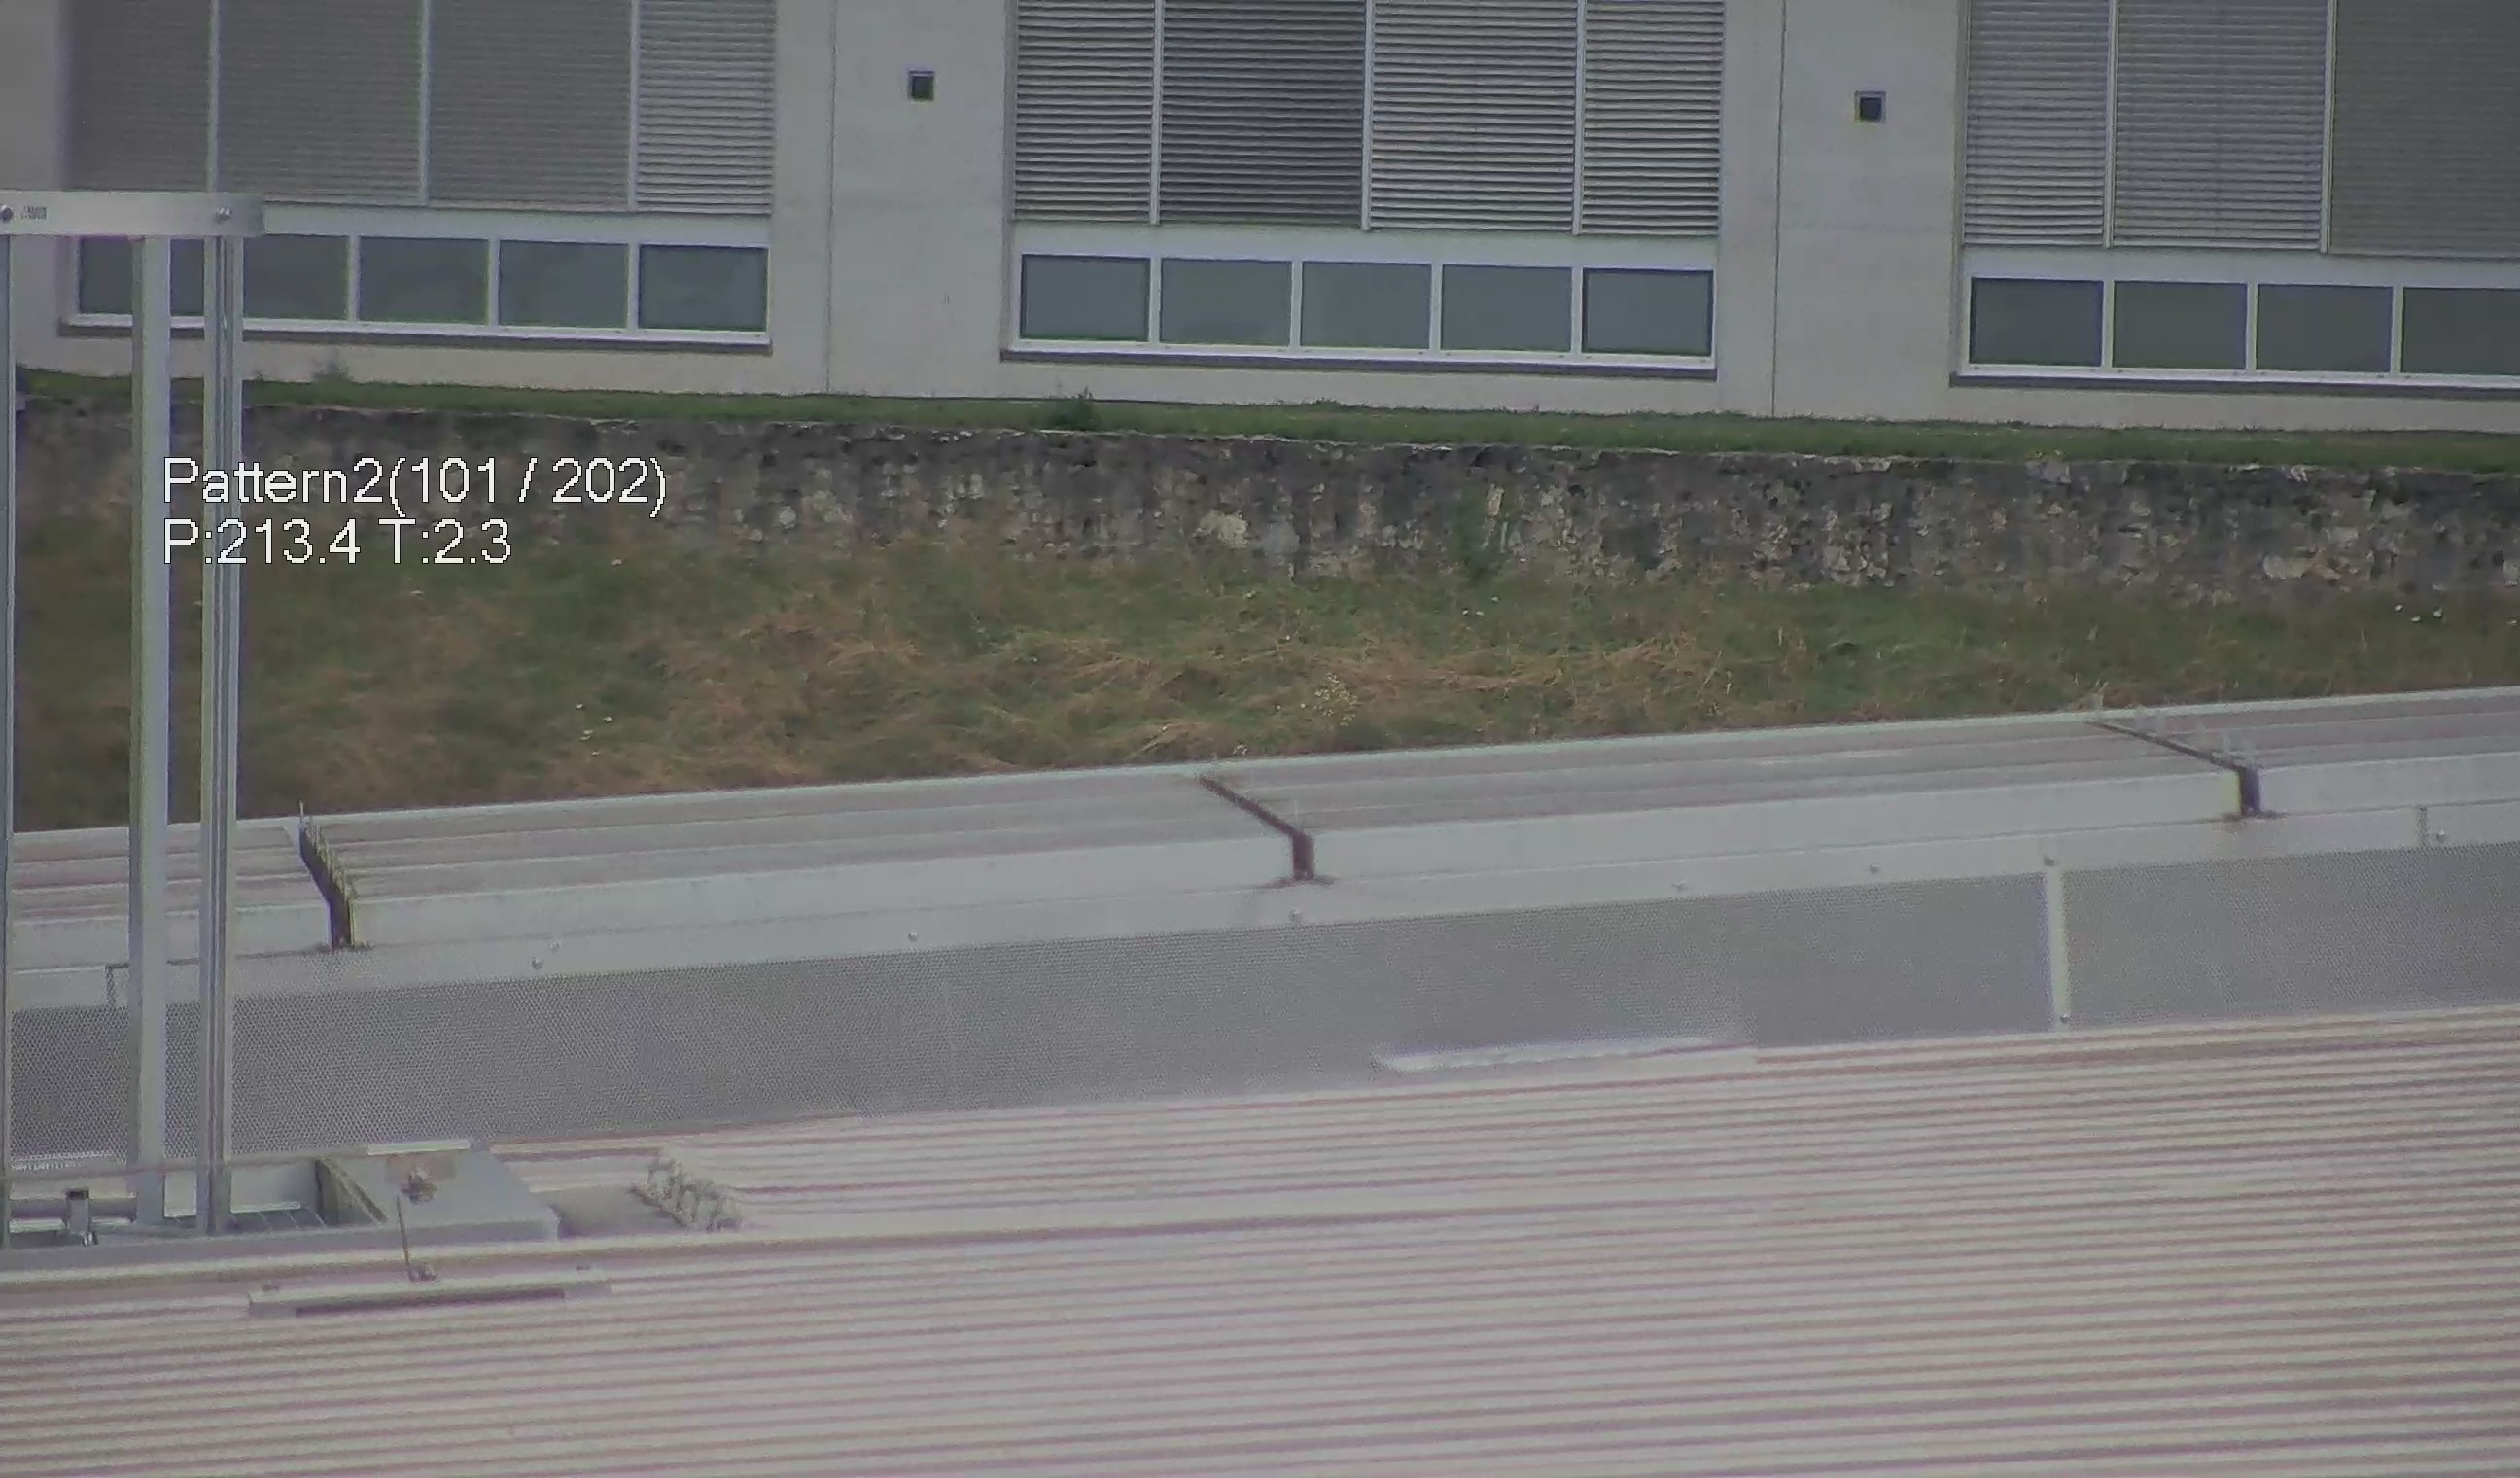Other: (283, 804, 369, 964)
